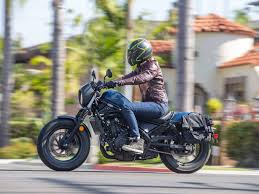motorcycle: (34, 69, 219, 174)
